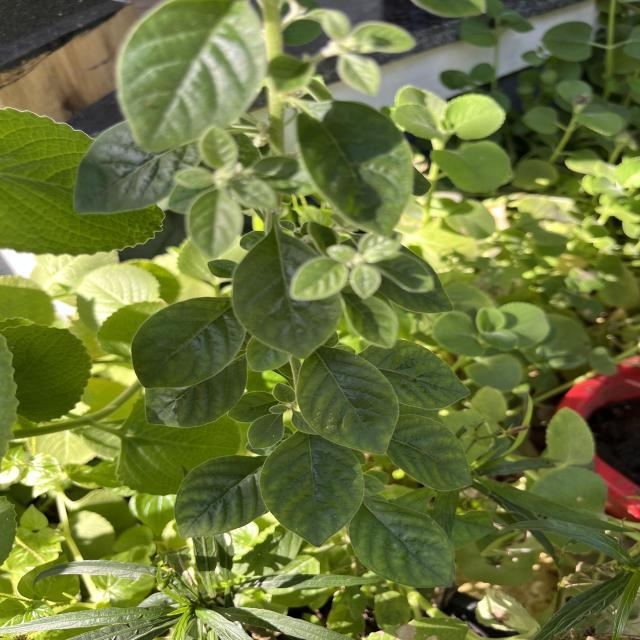Aerva lanata: (256, 431, 370, 550), (293, 344, 401, 458), (128, 294, 249, 391), (348, 498, 458, 592), (170, 452, 265, 541), (363, 336, 474, 412), (384, 411, 477, 494)
